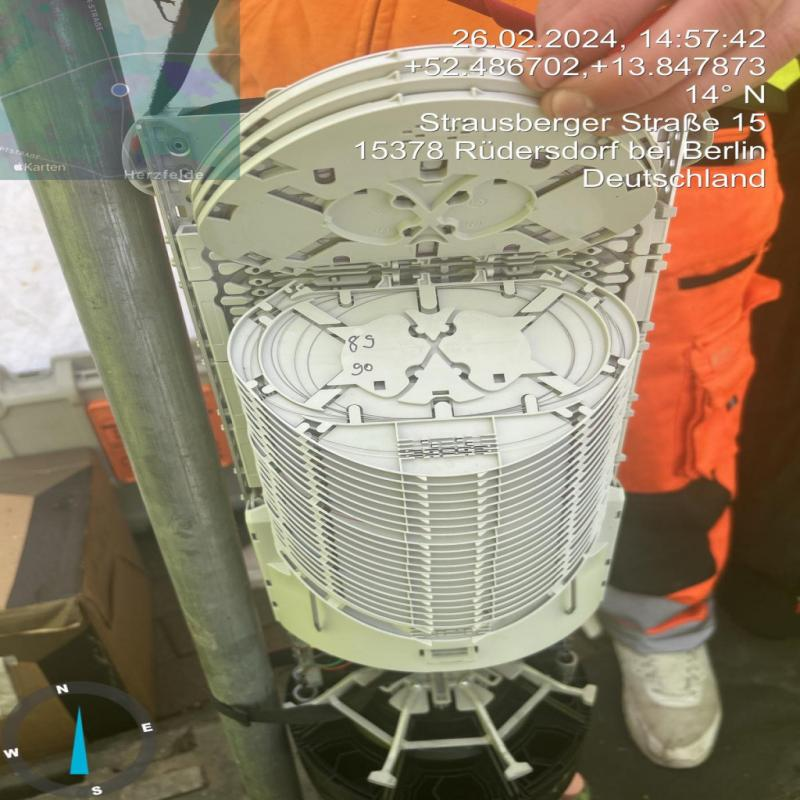NT-Muffen: (133, 41, 698, 799)
